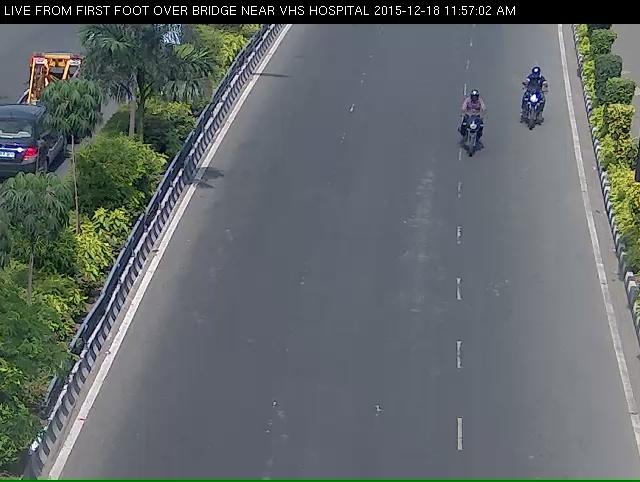Person: (517, 70, 549, 153), (456, 98, 488, 179)
